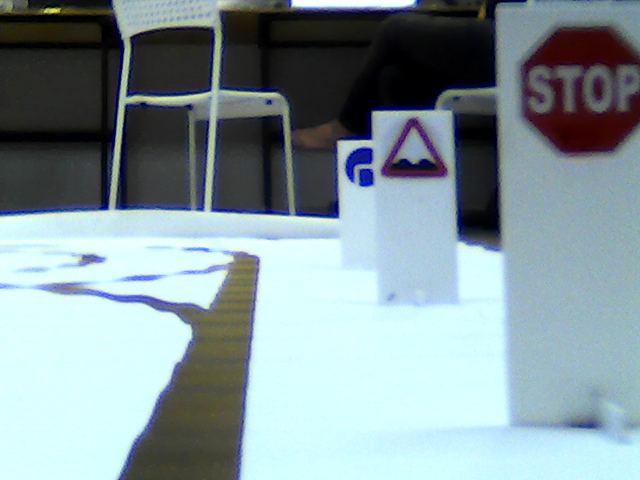Nerov: (379, 118, 450, 179)
Stop: (517, 21, 630, 158)
